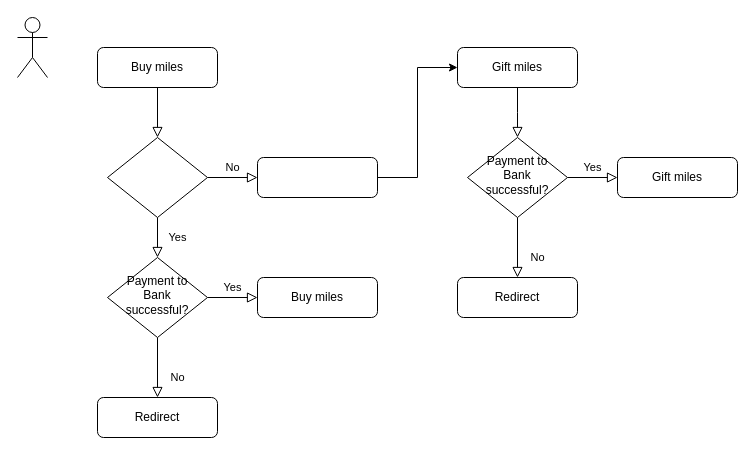
Image size: 755x455. Some labels were removed from this diagram. The centre of each missing label's shape, as x and y in pixels:
"Actor" goes at (x=32, y=47).
"İs user logged in?" goes at (x=157, y=177).
"Redirect to gift miles" goes at (x=317, y=177).
